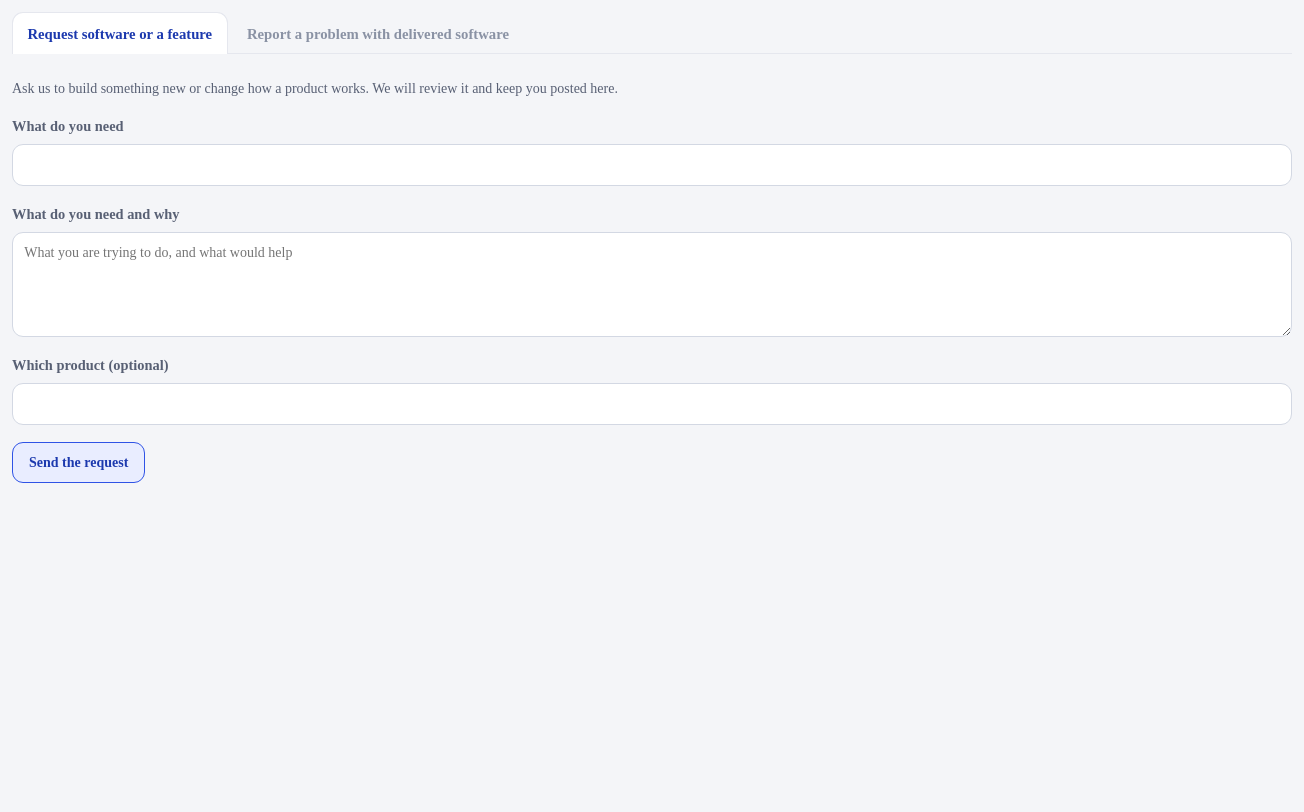
Test: clicking the incident tab switches the visible panel
Expected: the text box labelled "What do you need and why" is shown, [12,232,1292,337]
Step 1. Click the tab "Report a problem with delivered software" → (378, 33), box [232,12,524,54]
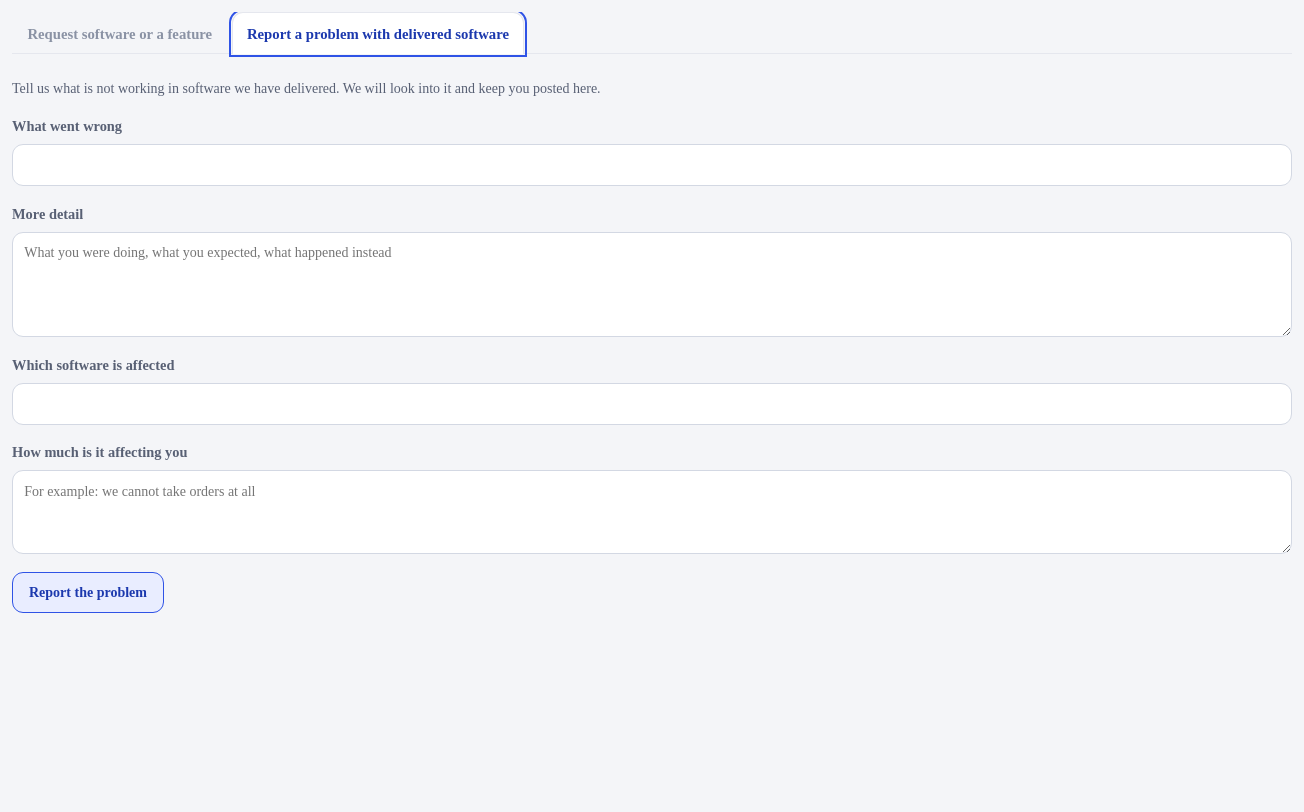
Expected: the label labelled "What do you need and why" is gone
Expected: the text box labelled "How much is it affecting you" is shown, [12,470,1292,554]
